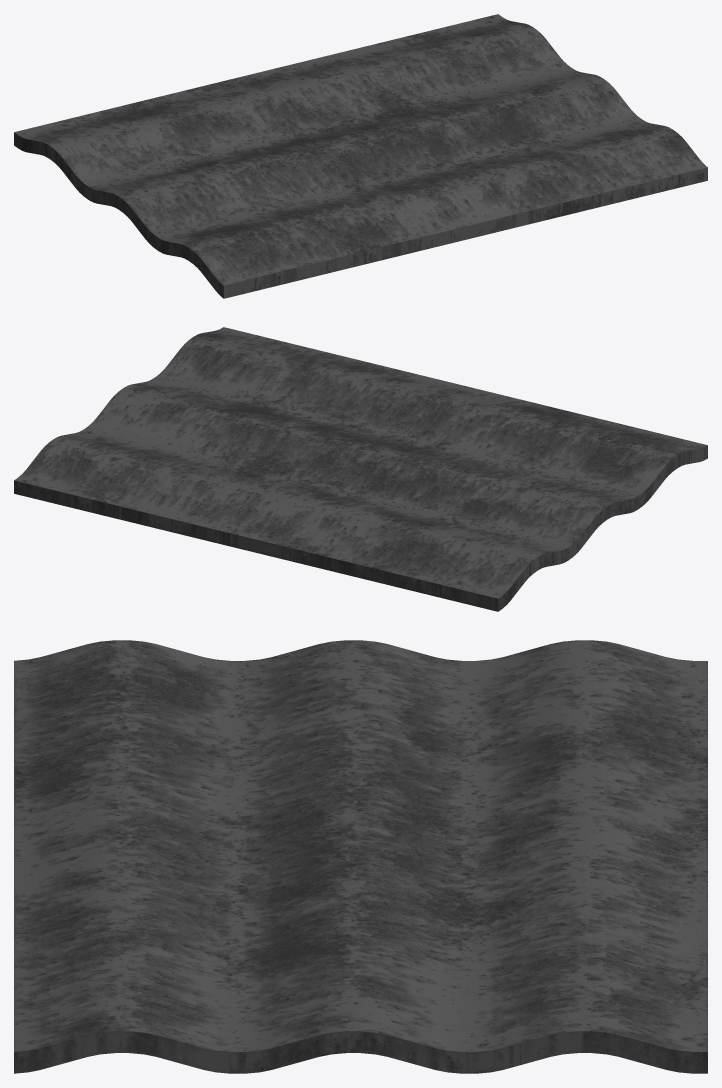
The model's file is Placa metal Vertical Unity.fbx.
The picture shows the model from 3 angles, top to bottom: view 1: azimuth 30°, elevation 25°; view 2: azimuth 150°, elevation 25°; view 3: azimuth 270°, elevation 25°; orthographic projection. The views are drawn at different scales.
Visible parts, largest first — view 1: Plane; view 2: Plane; view 3: Plane.
Boxes of the visible parts, bbox=[...] form: Plane: bbox=[14, 14, 707, 298]; Plane: bbox=[14, 327, 707, 611]; Plane: bbox=[14, 640, 707, 1073].
Bounding box in the file's own units: 200 × 10.1 × 150.
